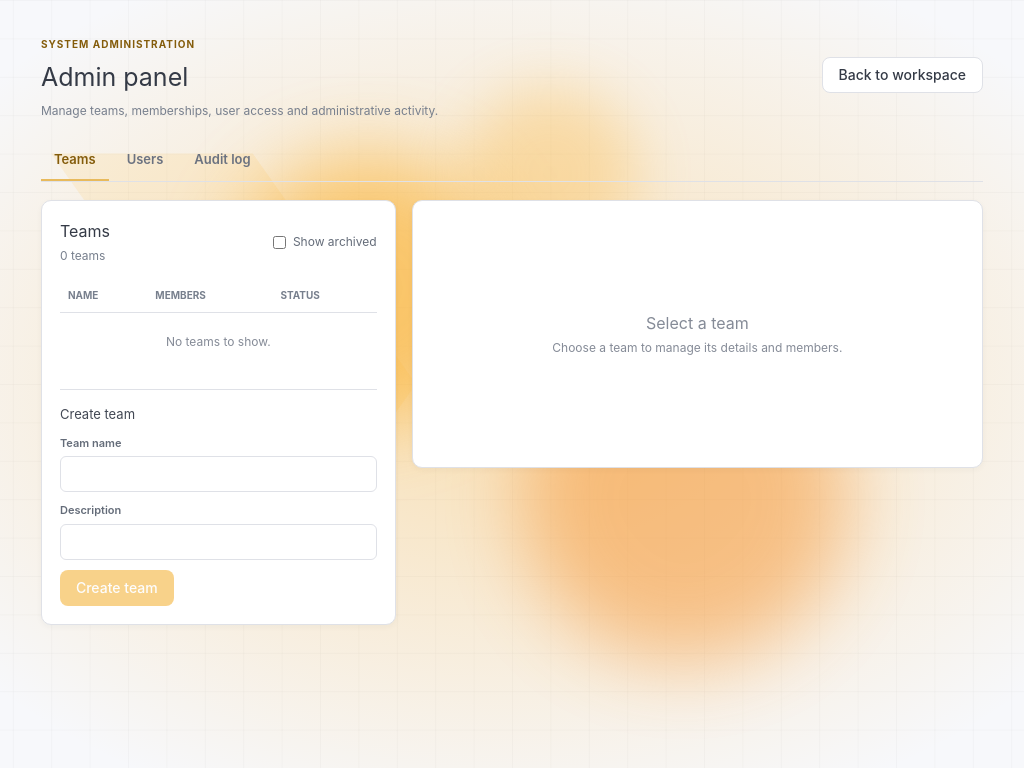
Scenario: AdminPanel › deletes a user after confirmation and refreshes the list
This screenshot has width=1024, height=768.
Click the button "Users": (145, 160) [114,140,176,181]
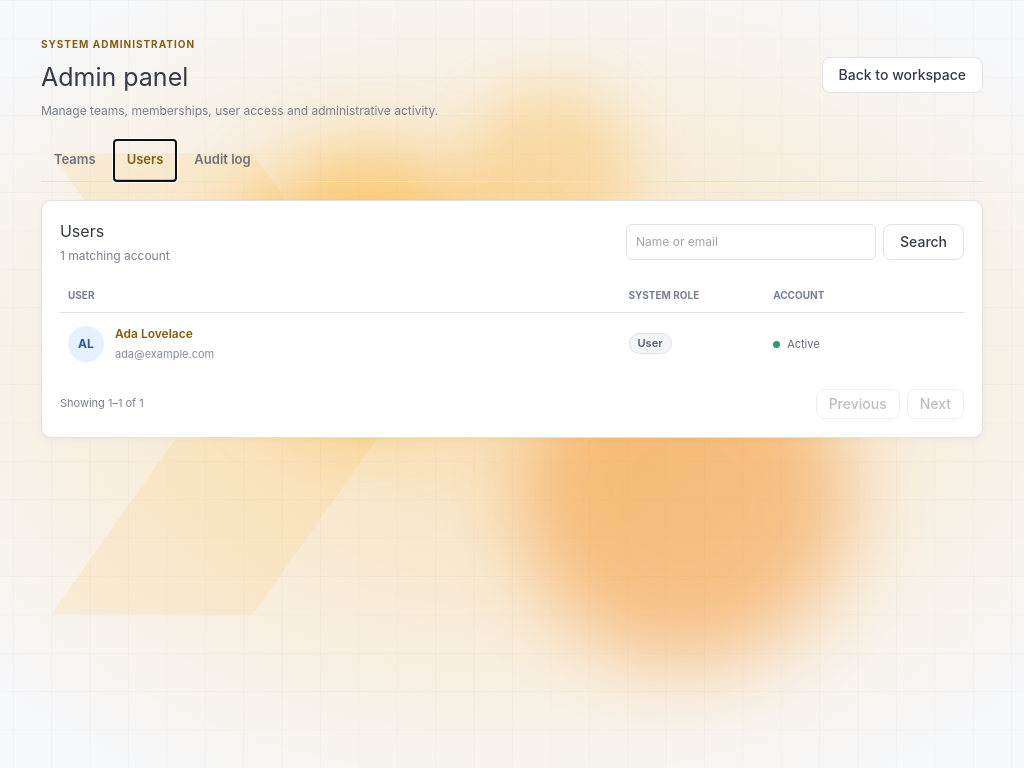
Click the button with aria-label "Manage Ada Lovelace": (154, 334) [115,325,193,343]
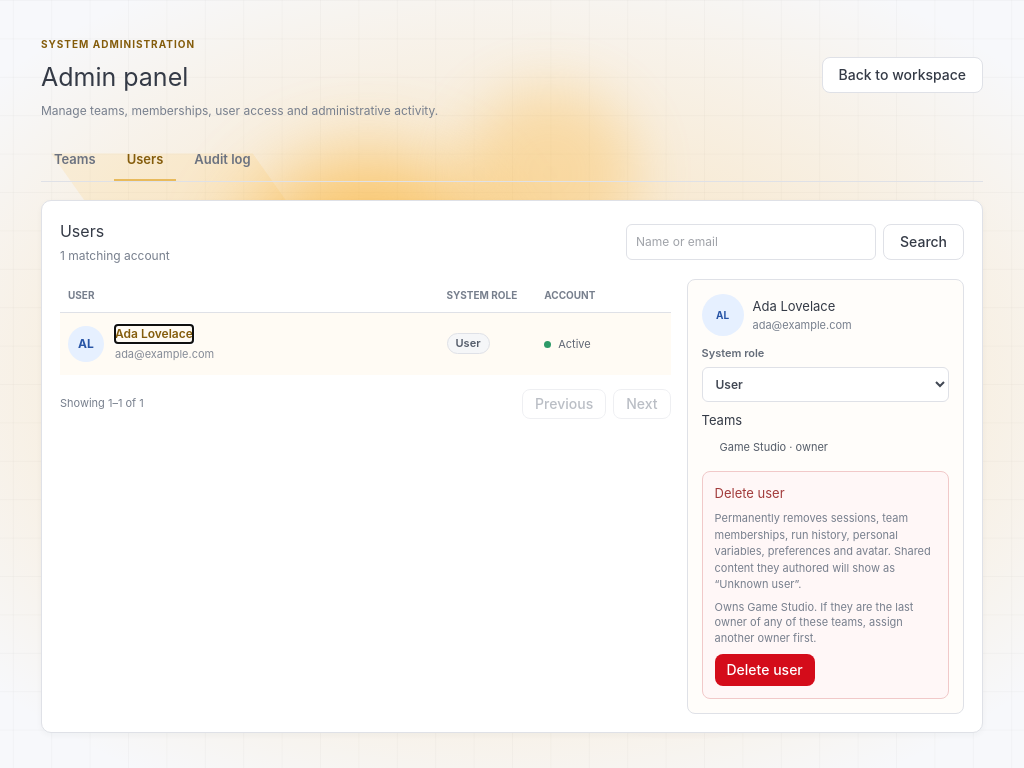
Now the text "Owns Game Studio." is shown, box [714,600,936,647]
Click the button "Delete user": (765, 670) [714,654,815,686]
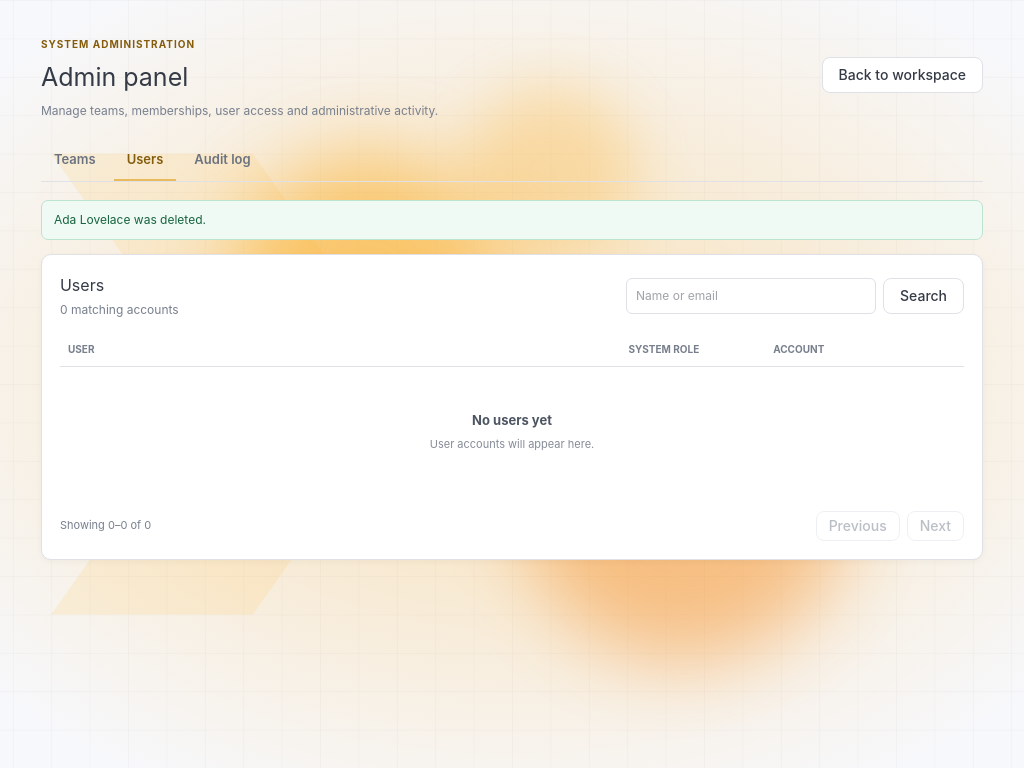
Now the text "Ada Lovelace was deleted." is shown, box [41,200,983,240]
Now the element with class "admin-user-detail" is gone
